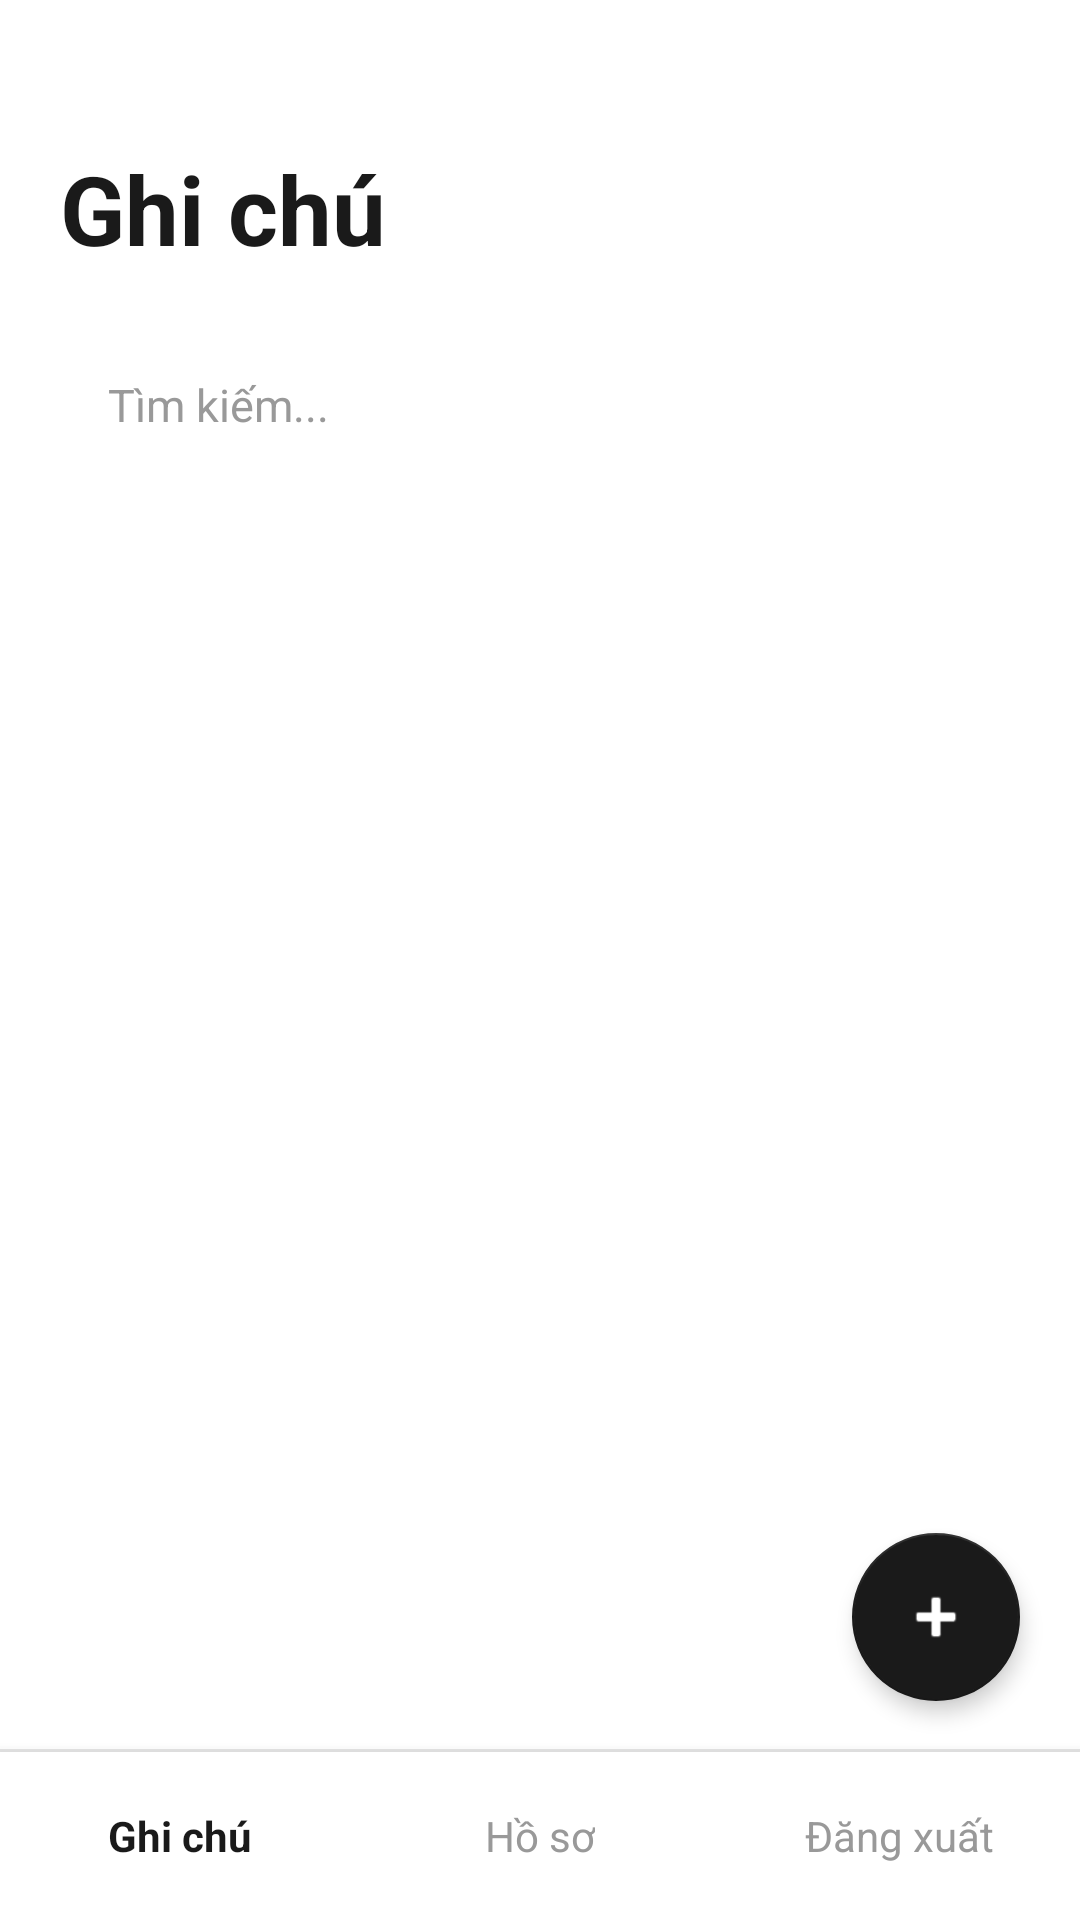

Locate icon controls on the screen. Image size 1080px×1920px, boxes as (x1, y1, x2, y2).
Thêm: (852, 1533, 1020, 1701)
